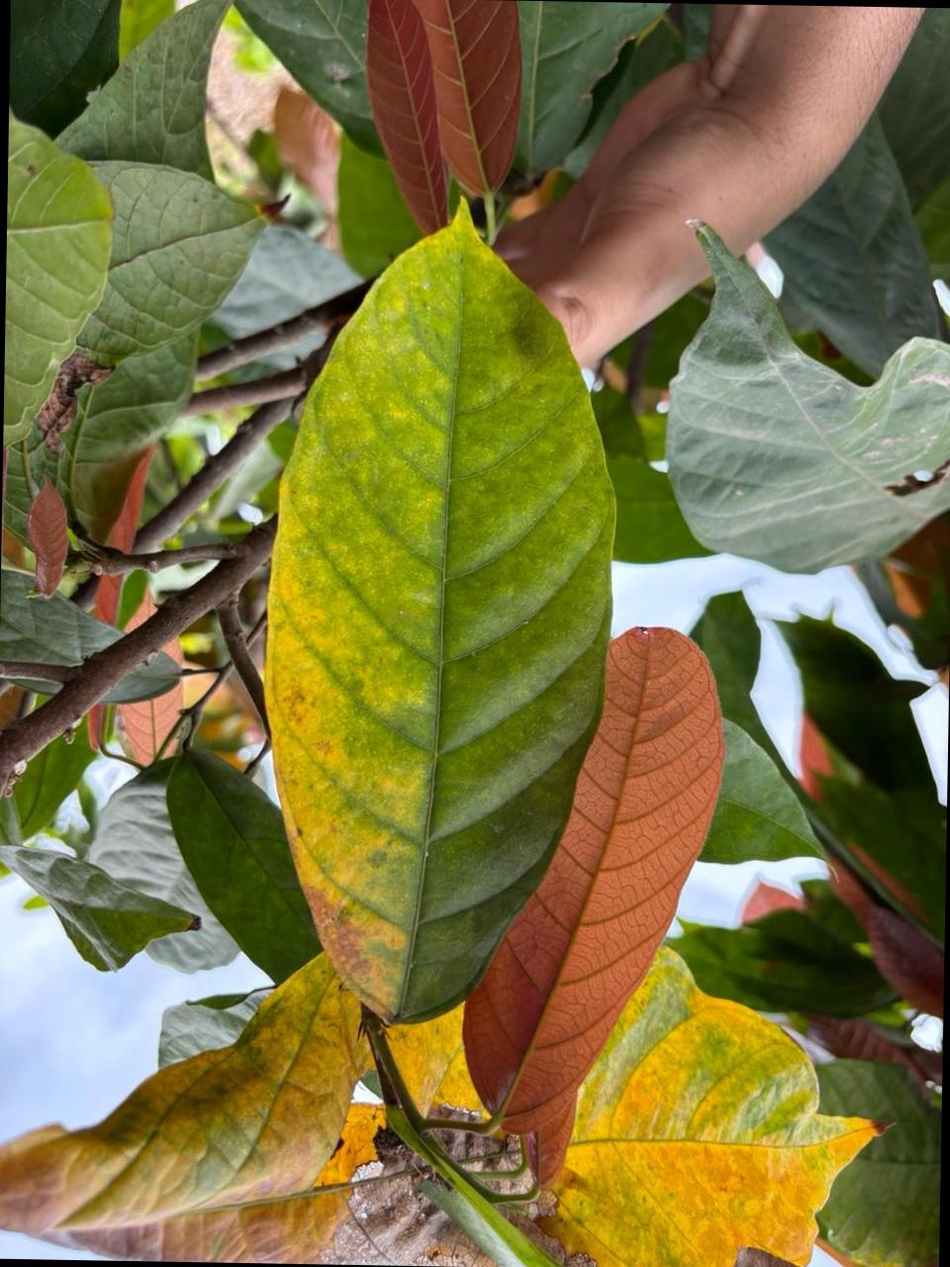Fosforo: (265, 207, 614, 1022), (550, 950, 875, 1266)
